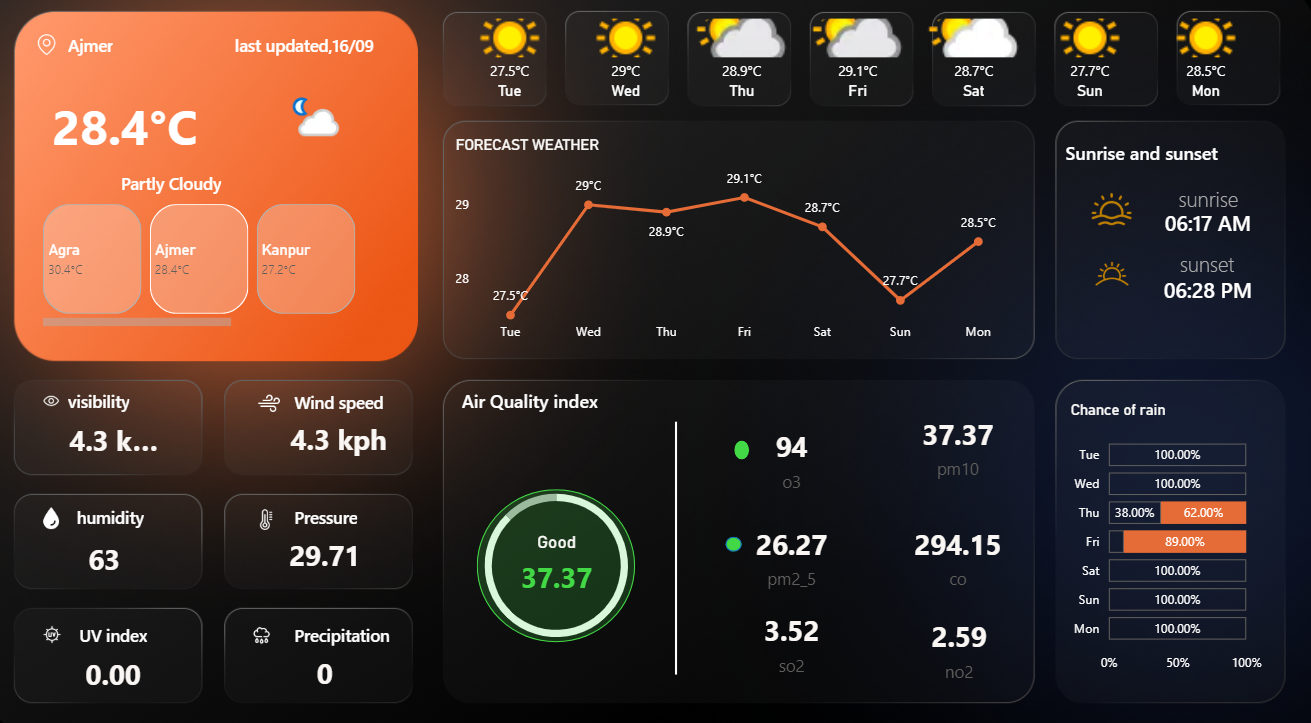

What the dashboard file says about the page in this screenshot:
{"tool":"powerbi","page":{"name":"Page 1","canvas":[1280,720],"ordinal":0},"visuals":[{"type":"donutChart","fields":{"Y":["PMSO2 Color.left_value_PM10","Sum(current.current.air_quality.pm10)"]},"box":[457.2,445.5,182.9,224.7],"z":0},{"type":"shape","box":[471.6,483.4,152.8,147.6],"z":1000},{"type":"advancedSlicerVisual","fields":{"Values":["location.location.name"]},"box":[48.3,203.8,313.5,129.3],"z":2000},{"type":"shape","box":[48.3,91.7,167.7,82],"z":3000},{"type":"shape","box":[48.3,173.7,257,30.2],"z":4000},{"type":"shape","box":[77.2,39.8,112.2,29],"z":5000},{"type":"shape","box":[205.1,39.8,200.3,29],"z":6000},{"type":"image","box":[36.2,39.8,41,30.2],"z":7000},{"type":"cardVisual","fields":{"Data":["Min(current.current.condition.icon)"]},"box":[253.4,79.6,115.8,105],"z":8000},{"type":"image","box":[36.2,384.9,49.5,27.7],"z":9000},{"type":"shape","box":[77.2,383.6,91.7,29],"z":10000},{"type":"image","box":[36.2,495.8,49.5,32.6],"z":11000},{"type":"shape","box":[85.7,495.8,91.7,29],"z":12000},{"type":"image","box":[36.2,610.5,51.9,27.7],"z":13000},{"type":"shape","box":[88.1,609.3,91.7,29],"z":14000},{"type":"image","box":[237.7,384.9,67.6,32.6],"z":15000},{"type":"shape","box":[295.6,384.9,91.7,29],"z":16000},{"type":"image","box":[237.7,498.3,61.5,30.2],"z":17000},{"type":"shape","box":[295.6,495.8,91.7,29],"z":18000},{"type":"image","box":[237.7,610.5,53.1,29],"z":19000},{"type":"shape","box":[295.6,609.3,109.8,29],"z":20000},{"type":"card","fields":{"Values":["_measures.wind_speed"]},"box":[73.2,414.1,95.4,48.3],"z":21000},{"type":"card","fields":{"Values":["_measures.wind_speed"]},"box":[280.9,412.8,115,48.3],"z":22000},{"type":"card","fields":{"Values":["Sum(current.current.humidity)"]},"box":[77.2,528.4,70,48.3],"z":23000},{"type":"card","fields":{"Values":["Sum(current.current.pressure_in)"]},"box":[281.1,524.8,88.1,48.3],"z":24000},{"type":"card","fields":{"Values":["Sum(current.current.precip_in)"]},"box":[281.1,638.2,88.1,48.3],"z":25000},{"type":"card","fields":{"Values":["Sum(current.current.uv)"]},"box":[77.1,638.8,87.5,48.3],"z":26000},{"type":"advancedSlicerVisual","fields":{"Values":["forecast_day.day_name"]},"box":[446.8,23.5,787.8,92.8],"z":27000},{"type":"lineChart","title":"FORECAST WEATHER","fields":{"Y":["Sum(forecast_day.forecast.forecastday.day.avgtemp_c)"],"Category":["forecast_day.day_name"]},"box":[446.8,142.4,544.8,207.7],"z":28000},{"type":"shape","box":[1039.9,145,165.9,28.7],"z":29000},{"type":"shape","box":[1109.1,184.2,137.2,82.3],"z":30000},{"type":"shape","box":[1109.1,249.5,137.2,82.3],"z":31000},{"type":"shape","box":[1118.3,184.2,118.9,37.9],"z":32000},{"type":"shape","box":[1117,246.9,118.9,37.9],"z":33000},{"type":"image","box":[1060.8,189.4,48.3,48.3],"z":34000},{"type":"image","box":[1055.6,249.5,58.8,52.3],"z":35000},{"type":"hundredPercentStackedBarChart","title":"Chance of rain","fields":{"Y":["current.left_value_rain","Sum(forecast_day.forecast.forecastday.day.daily_chance_of_rain)"],"Category":["forecast_day.day_name"]},"box":[1039.9,398.4,194.7,271.7],"z":36000},{"type":"shape","box":[457.2,384.1,165.9,28.7],"z":37000},{"type":"card","fields":{"Values":["Sum(current.current.air_quality.pm10)"]},"box":[880.5,401.1,111,83.6],"z":38000},{"type":"card","fields":{"Values":["Sum(current.current.air_quality.co)"]},"box":[880.5,506.9,111,83.6],"z":39000},{"type":"card","fields":{"Values":["Sum(current.current.air_quality.no2)"]},"box":[881.8,595.7,111,83.6],"z":40000},{"type":"card","fields":{"Values":["Sum(current.current.air_quality.so2)"]},"box":[719.8,590.5,111,83.6],"z":41000},{"type":"card","fields":{"Values":["Sum(current.current.air_quality.pm2_5)"]},"box":[719.8,506.9,111,83.6],"z":42000},{"type":"card","fields":{"Values":["Sum(current.current.air_quality.o3)"]},"box":[719.8,412.8,111,83.6],"z":43000},{"type":"shape","box":[719.8,436.3,14.4,18.3],"z":44000},{"type":"shape","box":[712,529.1,15.7,14.4],"z":45000},{"type":"shape","box":[657.1,418,13.1,244.3],"z":46000},{"type":"card","fields":{"Values":["Sum(current.current.air_quality.pm10)"]},"box":[501.7,525.2,94.1,70.5],"z":47000}]}

Visuals, with their boxes in screenshot pixels (x1, y1, x2, y2), scaled from the page's 1280x720 canvas onto the 1311x723 screenshot:
donutChart - PMSO2 Color.left_value_PM10 x Sum(current.current.air_quality.pm10): x1=468, y1=447, x2=656, y2=673
shape: x1=483, y1=485, x2=640, y2=634
advancedSlicerVisual - location.location.name: x1=49, y1=205, x2=371, y2=334
shape: x1=49, y1=92, x2=221, y2=174
shape: x1=49, y1=174, x2=313, y2=205
shape: x1=79, y1=40, x2=194, y2=69
shape: x1=210, y1=40, x2=415, y2=69
image: x1=37, y1=40, x2=79, y2=70
cardVisual - Min(current.current.condition.icon): x1=260, y1=80, x2=378, y2=185
image: x1=37, y1=387, x2=88, y2=414
shape: x1=79, y1=385, x2=173, y2=414
image: x1=37, y1=498, x2=88, y2=531
shape: x1=88, y1=498, x2=182, y2=527
image: x1=37, y1=613, x2=90, y2=641
shape: x1=90, y1=612, x2=184, y2=641
image: x1=243, y1=387, x2=313, y2=419
shape: x1=303, y1=387, x2=397, y2=416
image: x1=243, y1=500, x2=306, y2=531
shape: x1=303, y1=498, x2=397, y2=527
image: x1=243, y1=613, x2=298, y2=642
shape: x1=303, y1=612, x2=415, y2=641
card - _measures.wind_speed: x1=75, y1=416, x2=173, y2=464
card - _measures.wind_speed: x1=288, y1=415, x2=405, y2=463
card - Sum(current.current.humidity): x1=79, y1=531, x2=151, y2=579
card - Sum(current.current.pressure_in): x1=288, y1=527, x2=378, y2=575
card - Sum(current.current.precip_in): x1=288, y1=641, x2=378, y2=689
card - Sum(current.current.uv): x1=79, y1=641, x2=169, y2=690
advancedSlicerVisual - forecast_day.day_name: x1=458, y1=24, x2=1265, y2=117
"FORECAST WEATHER" lineChart: x1=458, y1=143, x2=1016, y2=352
shape: x1=1065, y1=146, x2=1235, y2=174
shape: x1=1136, y1=185, x2=1276, y2=268
shape: x1=1136, y1=251, x2=1276, y2=333
shape: x1=1145, y1=185, x2=1267, y2=223
shape: x1=1144, y1=248, x2=1266, y2=286
image: x1=1086, y1=190, x2=1136, y2=239
image: x1=1081, y1=251, x2=1141, y2=303
"Chance of rain" hundredPercentStackedBarChart: x1=1065, y1=400, x2=1265, y2=673
shape: x1=468, y1=386, x2=638, y2=415
card - Sum(current.current.air_quality.pm10): x1=902, y1=403, x2=1016, y2=487
card - Sum(current.current.air_quality.co): x1=902, y1=509, x2=1016, y2=593
card - Sum(current.current.air_quality.no2): x1=903, y1=598, x2=1017, y2=682
card - Sum(current.current.air_quality.so2): x1=737, y1=593, x2=851, y2=677
card - Sum(current.current.air_quality.pm2_5): x1=737, y1=509, x2=851, y2=593
card - Sum(current.current.air_quality.o3): x1=737, y1=415, x2=851, y2=498
shape: x1=737, y1=438, x2=752, y2=456
shape: x1=729, y1=531, x2=745, y2=546
shape: x1=673, y1=420, x2=686, y2=665
card - Sum(current.current.air_quality.pm10): x1=514, y1=527, x2=610, y2=598
